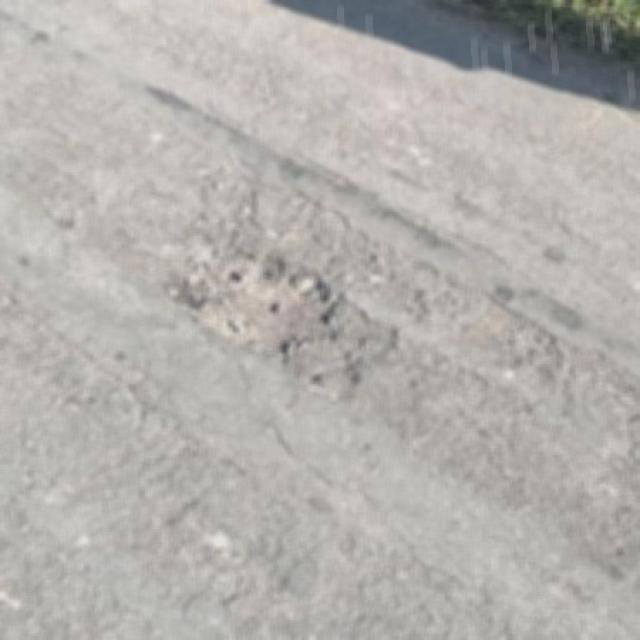road-pothole: (142, 202, 419, 407)
